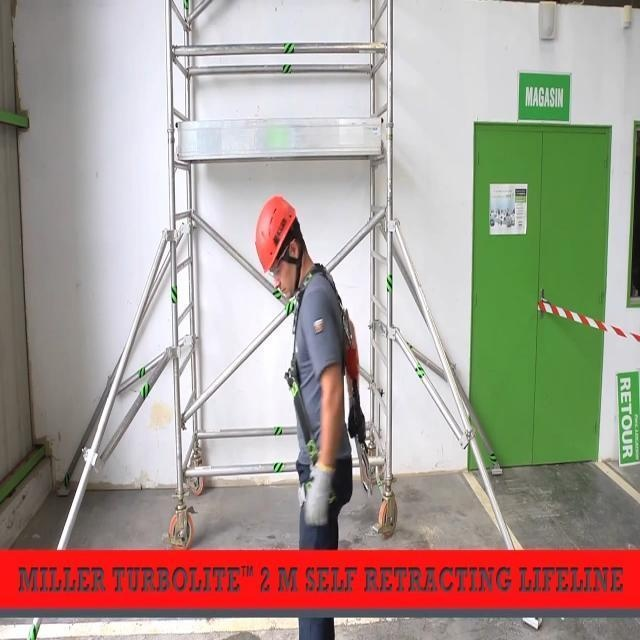Arnes_seguridad: (282, 262, 369, 523)
